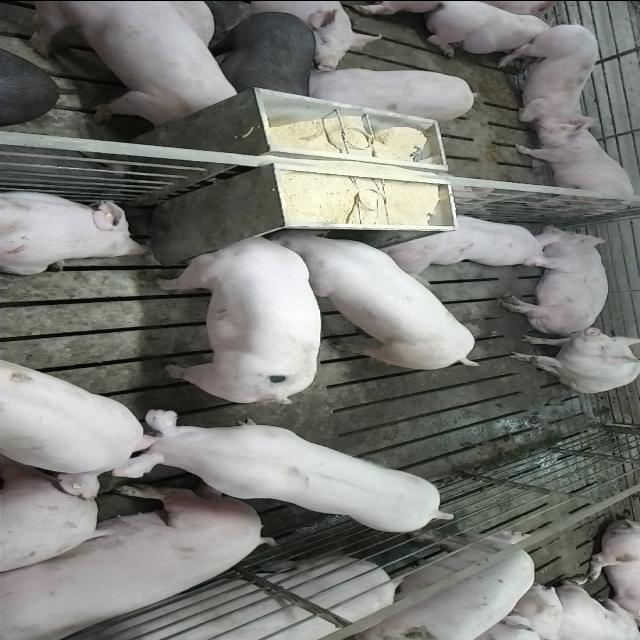Feeding: (271, 228, 481, 374), (156, 232, 324, 408)
Lateral_lying: (0, 482, 273, 636), (501, 222, 611, 336)
Sitting: (507, 325, 639, 392)
Standing: (111, 410, 454, 536), (14, 552, 408, 640), (15, 2, 245, 125), (0, 356, 157, 501), (339, 530, 540, 640), (509, 120, 639, 213), (308, 64, 482, 121), (210, 11, 318, 100)
Sternal_lying: (0, 186, 150, 274), (377, 208, 558, 274), (424, 1, 566, 55)
